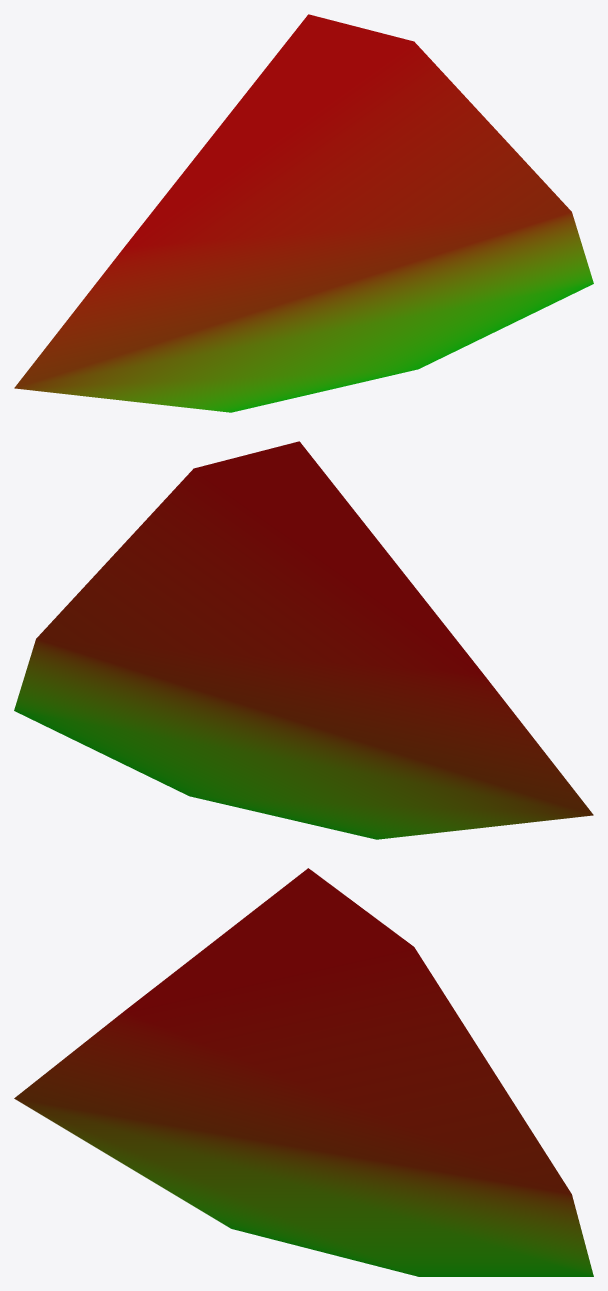
Rendered from Var11_LOD4.fbx.
3 renders of one model, top to bottom at view 1: azimuth 30°, elevation 25°; view 2: azimuth 150°, elevation 25°; view 3: azimuth 330°, elevation 25°, orthographic.
Visible parts, largest first — view 1: _98ao_Var11_LOD4; view 2: _98ao_Var11_LOD4; view 3: _98ao_Var11_LOD4.
Boxes of the visible parts, x1,y1,x2,y2 form: _98ao_Var11_LOD4: (14,14,593,412); _98ao_Var11_LOD4: (14,441,593,839); _98ao_Var11_LOD4: (14,868,593,1276).
Bounding box in the file's own units: 21.96 × 13.82 × 6.04e-07.
